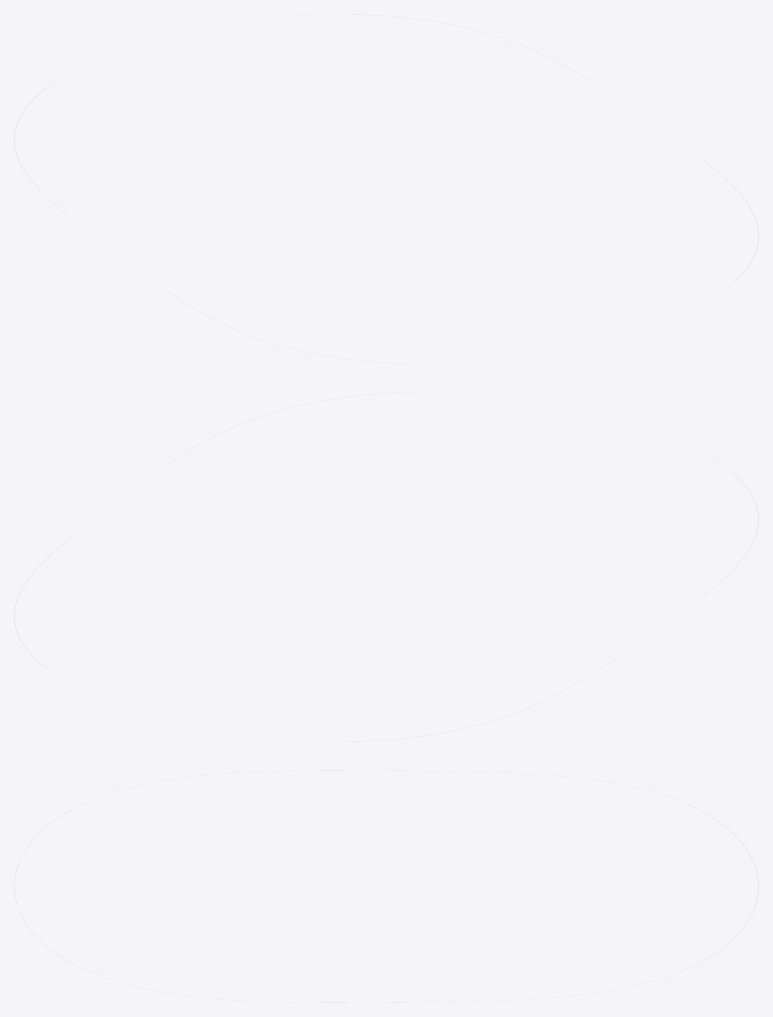
The model's file is ground_30_yards_2026-10-26.glb.
3 renders of one model, top to bottom at view 1: azimuth 30°, elevation 25°; view 2: azimuth 150°, elevation 25°; view 3: azimuth 270°, elevation 25°, orthographic. The views are drawn at different scales.
Parts seen in each view (by area): view 1: ground_30_yards; view 2: ground_30_yards; view 3: ground_30_yards.
Boxes of the visible parts, x1,y1,x2,y2 form: ground_30_yards: (14, 14, 758, 363); ground_30_yards: (14, 392, 758, 741); ground_30_yards: (14, 770, 758, 1002).
Bounding box in the file's own units: 55.74 × 0 × 75.64.
Materials: 1 (1 with a texture image).
